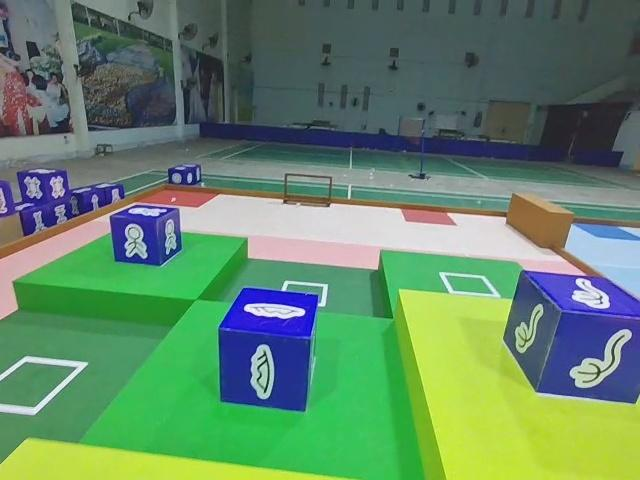R2 Real Blue: (503, 271, 640, 406), (218, 286, 322, 413), (110, 203, 185, 267), (0, 179, 17, 227)
